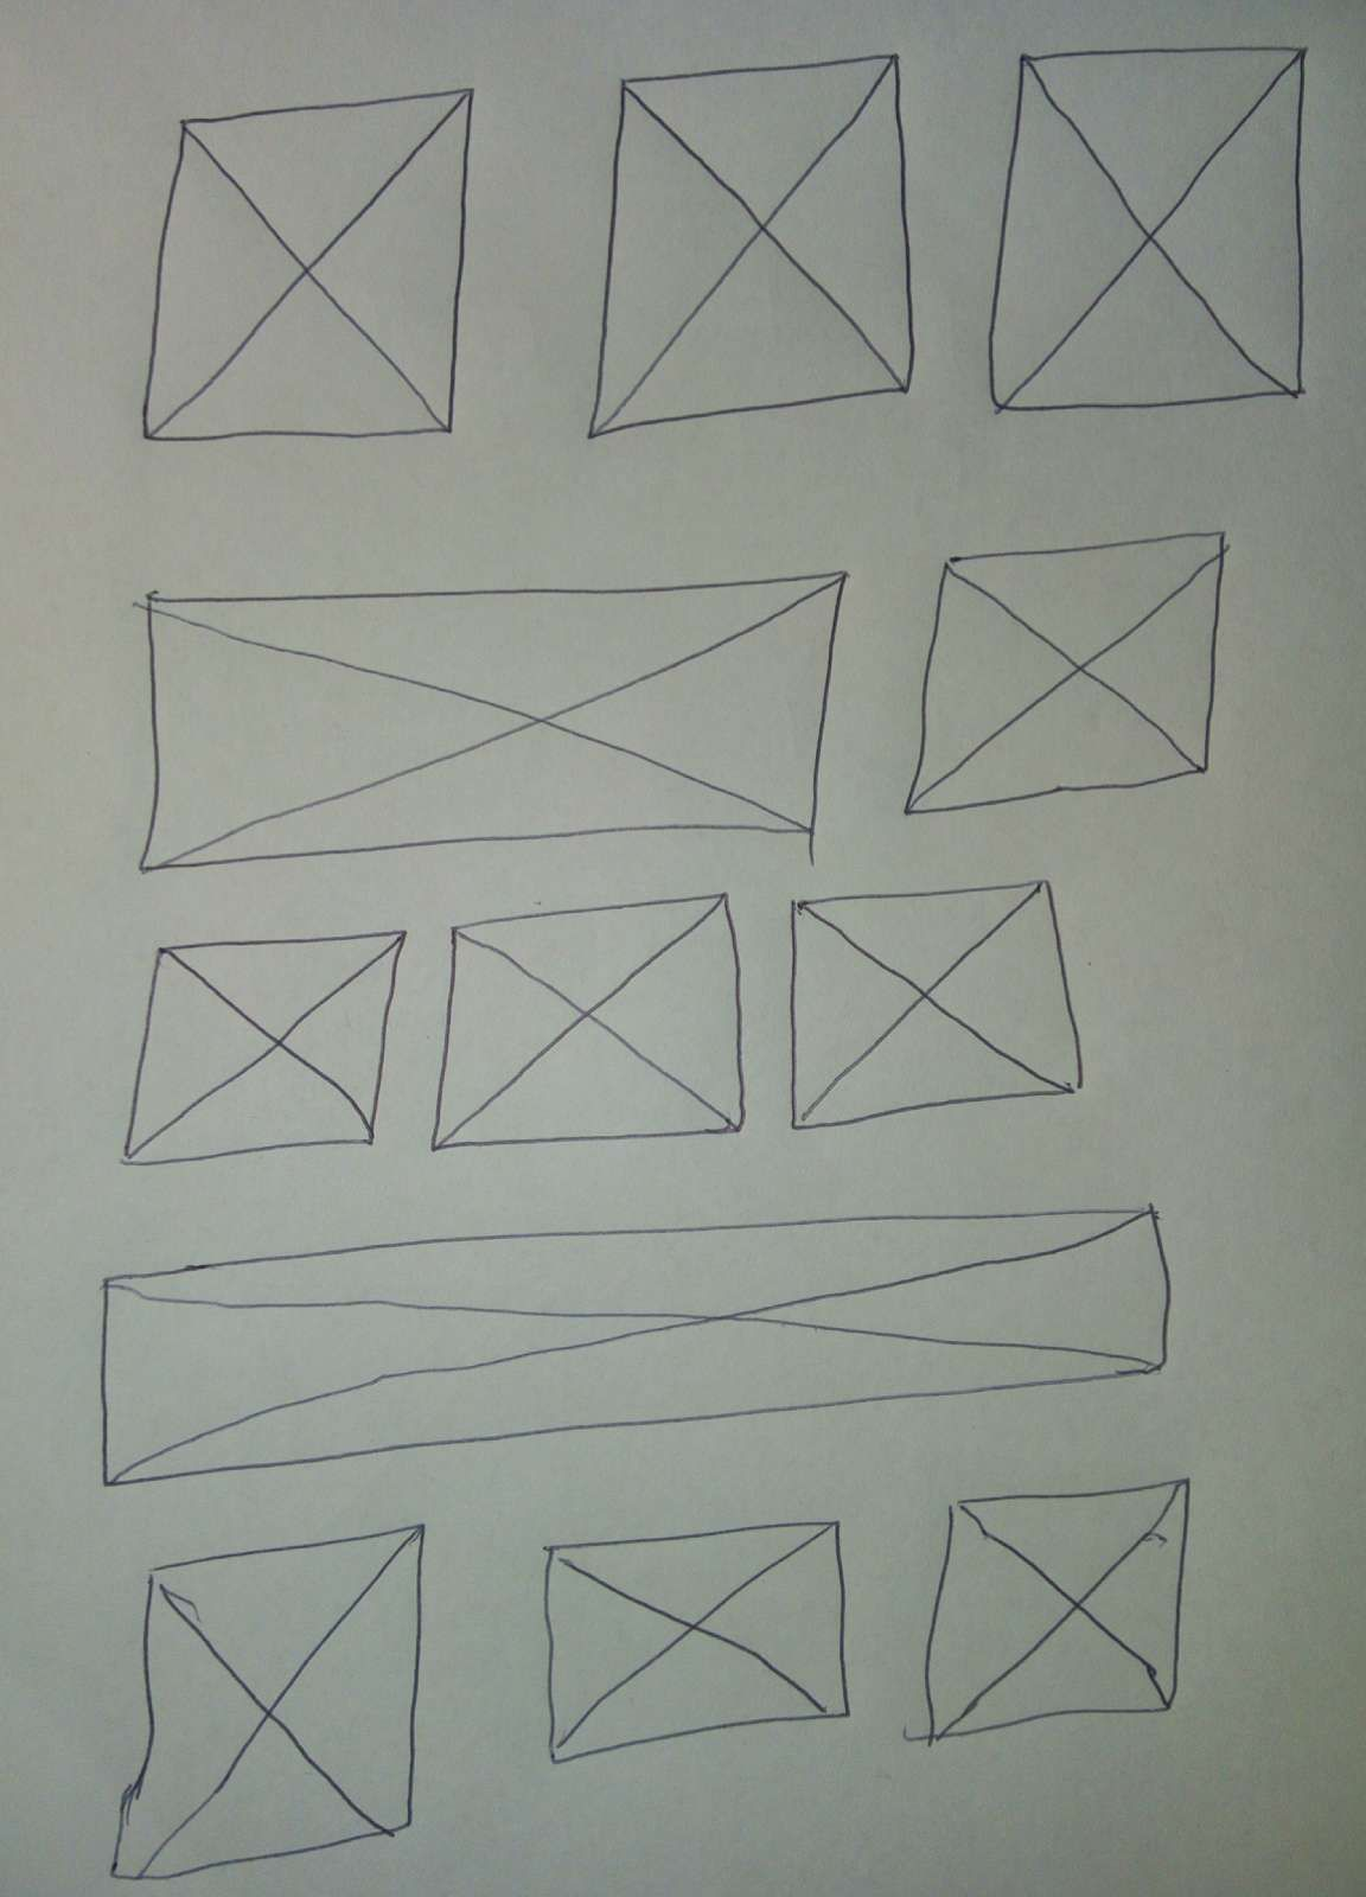Image: (99, 1202, 1174, 1492), (133, 569, 852, 876), (581, 43, 921, 448), (980, 29, 1320, 415), (133, 88, 486, 448), (108, 1520, 429, 1882), (897, 524, 1233, 817), (427, 893, 752, 1155), (787, 873, 1087, 1133), (911, 1473, 1194, 1748), (541, 1517, 852, 1767), (116, 925, 411, 1169)
